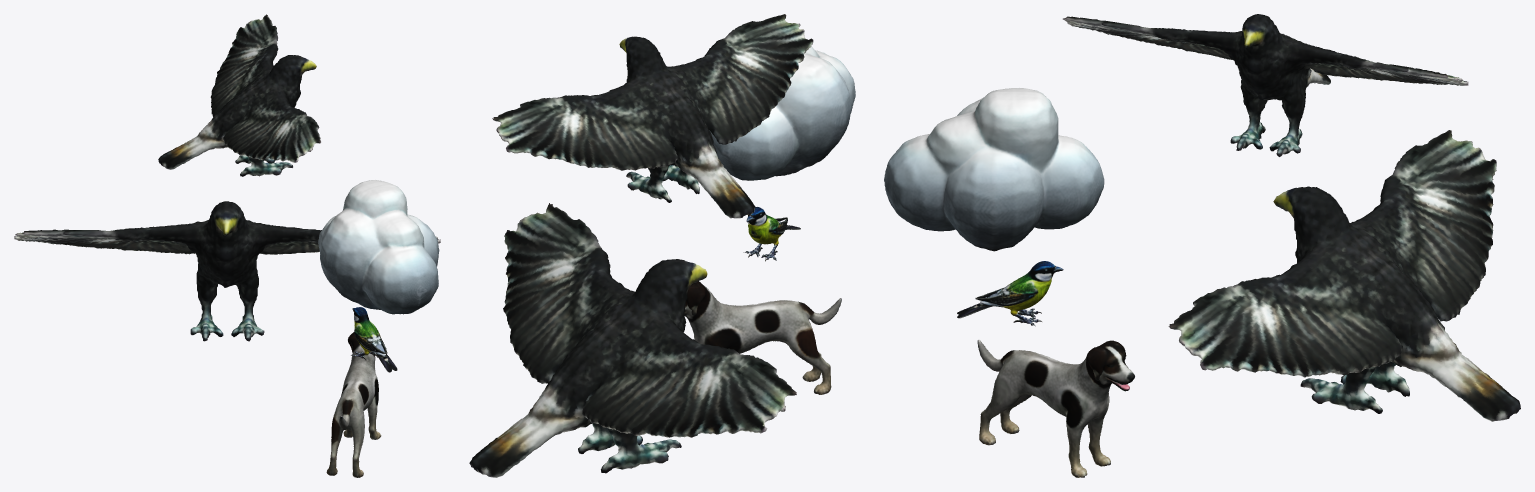
File: condor2.glb
3 views of the same model, side by side, from view 1: azimuth 30°, elevation 25°; view 2: azimuth 150°, elevation 25°; view 3: azimuth 270°, elevation 25° (orthographic). The views are drawn at different scales.
Parts seen in each view (by area): view 1: Mesh_0.004, Mesh_0, Mesh_0.003, Mesh_0.001, Mesh_0.002; view 2: Mesh_0.003, Mesh_0.004, Mesh_0, Mesh_0.001, Mesh_0.002; view 3: Mesh_0.003, Mesh_0, Mesh_0.004, Mesh_0.001, Mesh_0.002.
Boxes of the visible parts, x1=… form: Mesh_0.004: x1=158, y1=14, x2=320, y2=176; Mesh_0: x1=318, y1=180, x2=439, y2=314; Mesh_0.003: x1=14, y1=201, x2=440, y2=341; Mesh_0.001: x1=326, y1=332, x2=381, y2=477; Mesh_0.002: x1=351, y1=307, x2=397, y2=372; Mesh_0.003: x1=469, y1=203, x2=796, y2=477; Mesh_0.004: x1=492, y1=14, x2=813, y2=218; Mesh_0: x1=709, y1=46, x2=855, y2=180; Mesh_0.001: x1=684, y1=281, x2=841, y2=394; Mesh_0.002: x1=743, y1=207, x2=800, y2=261; Mesh_0.003: x1=1168, y1=130, x2=1520, y2=421; Mesh_0: x1=884, y1=88, x2=1104, y2=251; Mesh_0.004: x1=1062, y1=14, x2=1468, y2=156; Mesh_0.001: x1=977, y1=340, x2=1134, y2=477; Mesh_0.002: x1=957, y1=261, x2=1063, y2=326.
Size of the model in its own units: 33.6 by 33.29 by 42.75.
4 materials, 4 textured.
